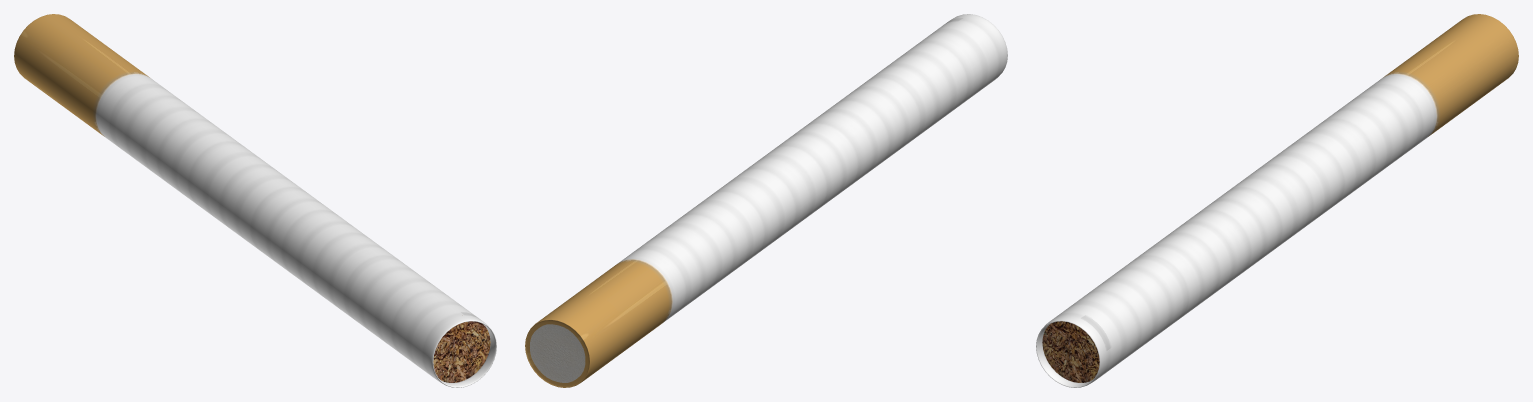
The model's file is cigarette.fbx.
3 renders of one model, left to right at view 1: azimuth 30°, elevation 25°; view 2: azimuth 150°, elevation 25°; view 3: azimuth 330°, elevation 25°, orthographic.
Parts seen in each view (by area): view 1: cigarette; view 2: cigarette; view 3: cigarette.
Boxes of the visible parts, x1,y1,x2,y2 form: cigarette: (14, 14, 496, 387); cigarette: (525, 14, 1007, 387); cigarette: (1036, 14, 1518, 387).
Bounding box in the file's own units: 0.7469 × 0.7288 × 8.26.
